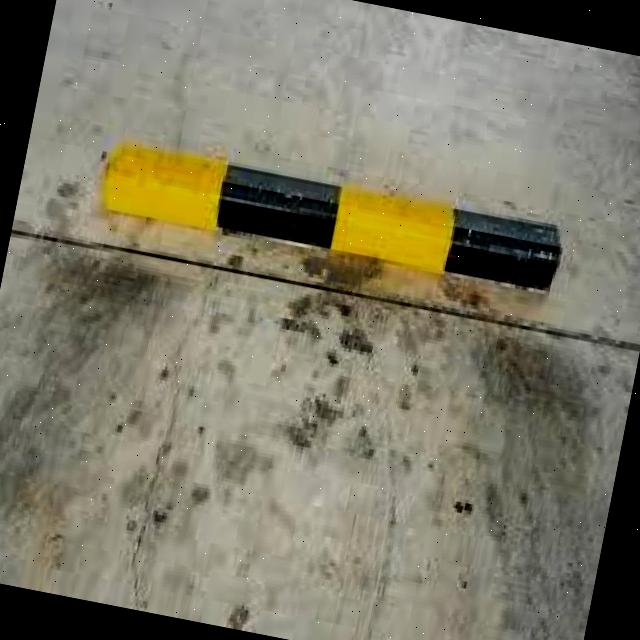curb: (103, 148, 575, 295)
